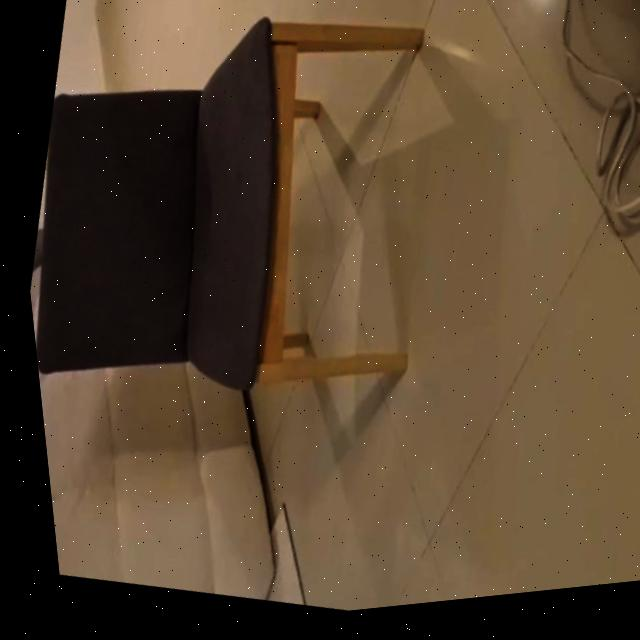sandalye: (28, 22, 420, 395)
